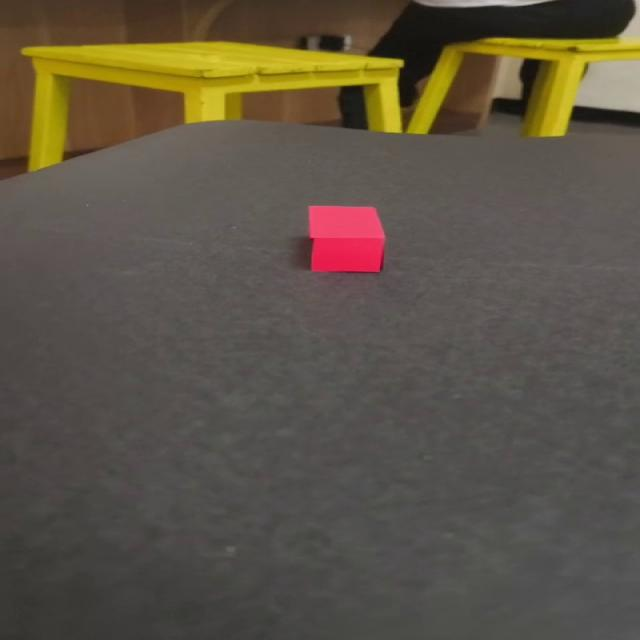red block: (307, 205, 385, 272)
